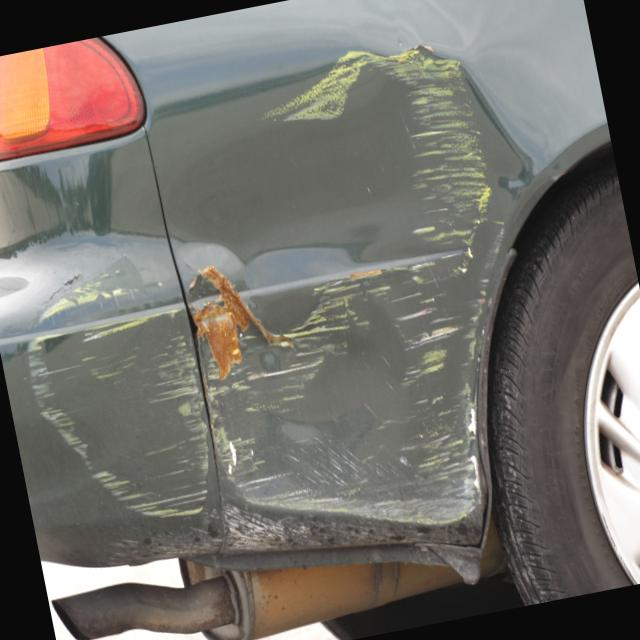Cabossage: (140, 31, 605, 569)
Rayure: (189, 246, 568, 581), (250, 10, 512, 294), (0, 262, 231, 579)
